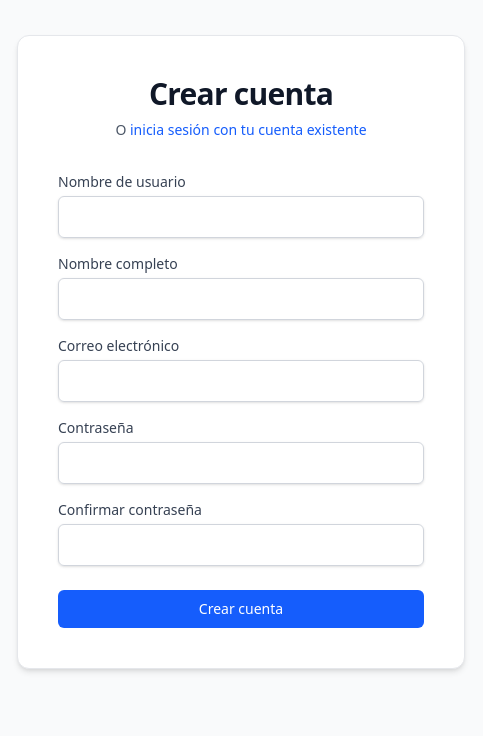
Test: Autenticación - Registro › Validaciones de formulario › debería mostrar errores de validación con campos vacíos
Click the submit button: point(241, 609) [58, 590, 424, 628]
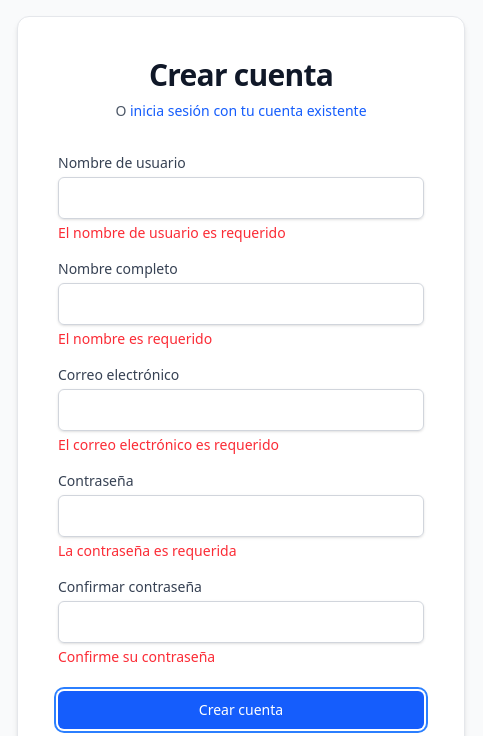
Now the text "El nombre de usuario es requerido" is shown, box [58, 223, 286, 242]
Now the text "El nombre es requerido" is shown, box [58, 329, 212, 348]
Now the text "El correo electrónico es requerido" is shown, box [58, 435, 279, 454]
